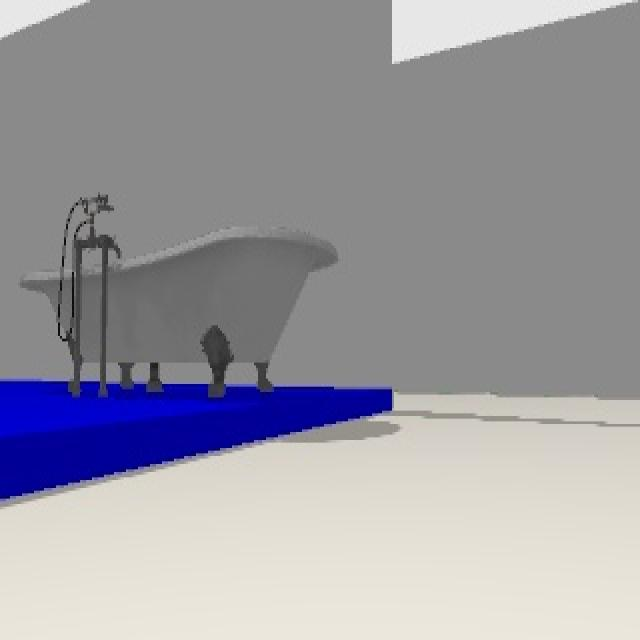bathtub: (17, 190, 337, 394)
